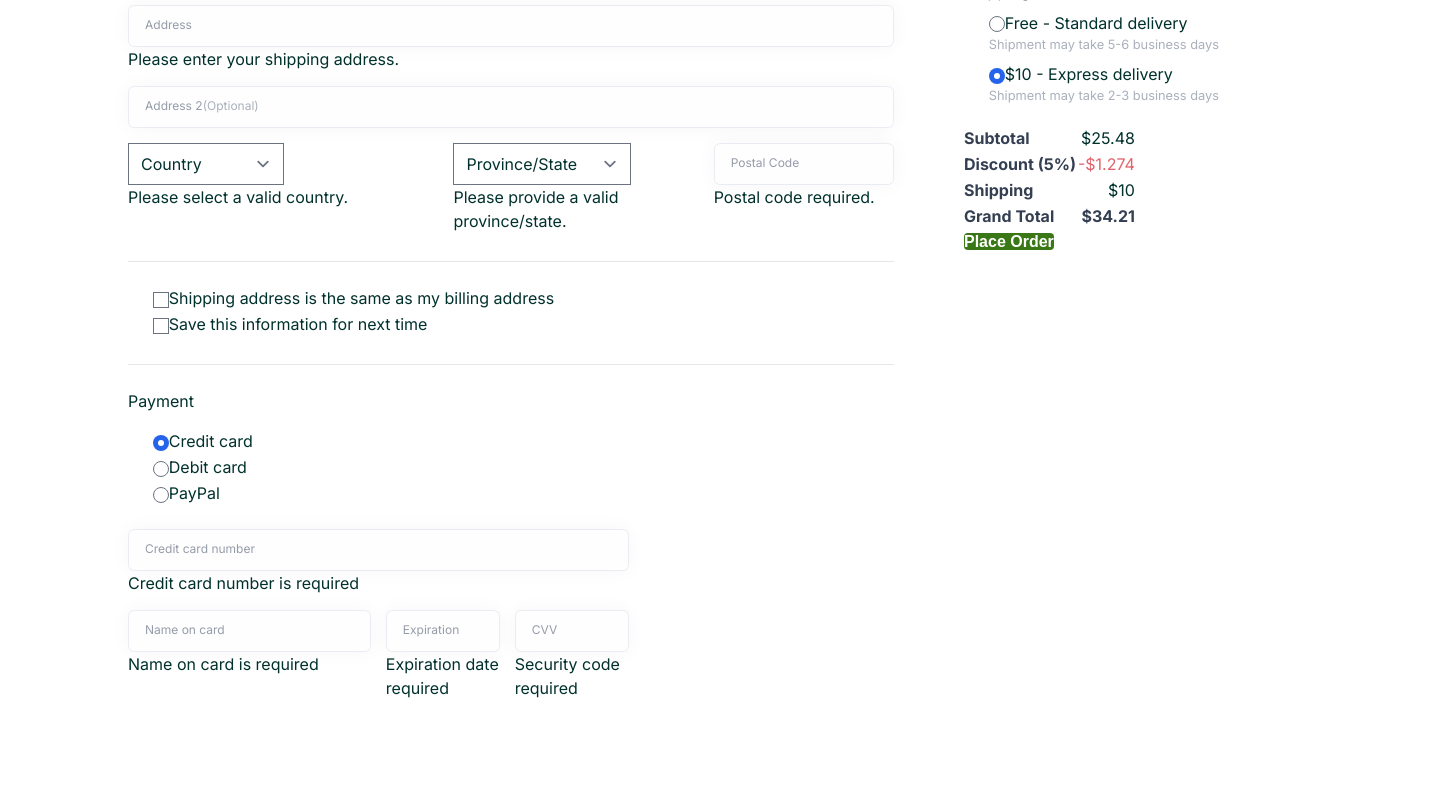
Scenario: Checkout Component › User Interaction Tests › allows user to select payment method
(page scrolled)
Expected: the radio button labelled "Credit card" is checked, [153, 435, 169, 451]
Switch to debit card
Click the radio button labelled "Debit card".
click(161, 469)  # box [153, 461, 169, 477]
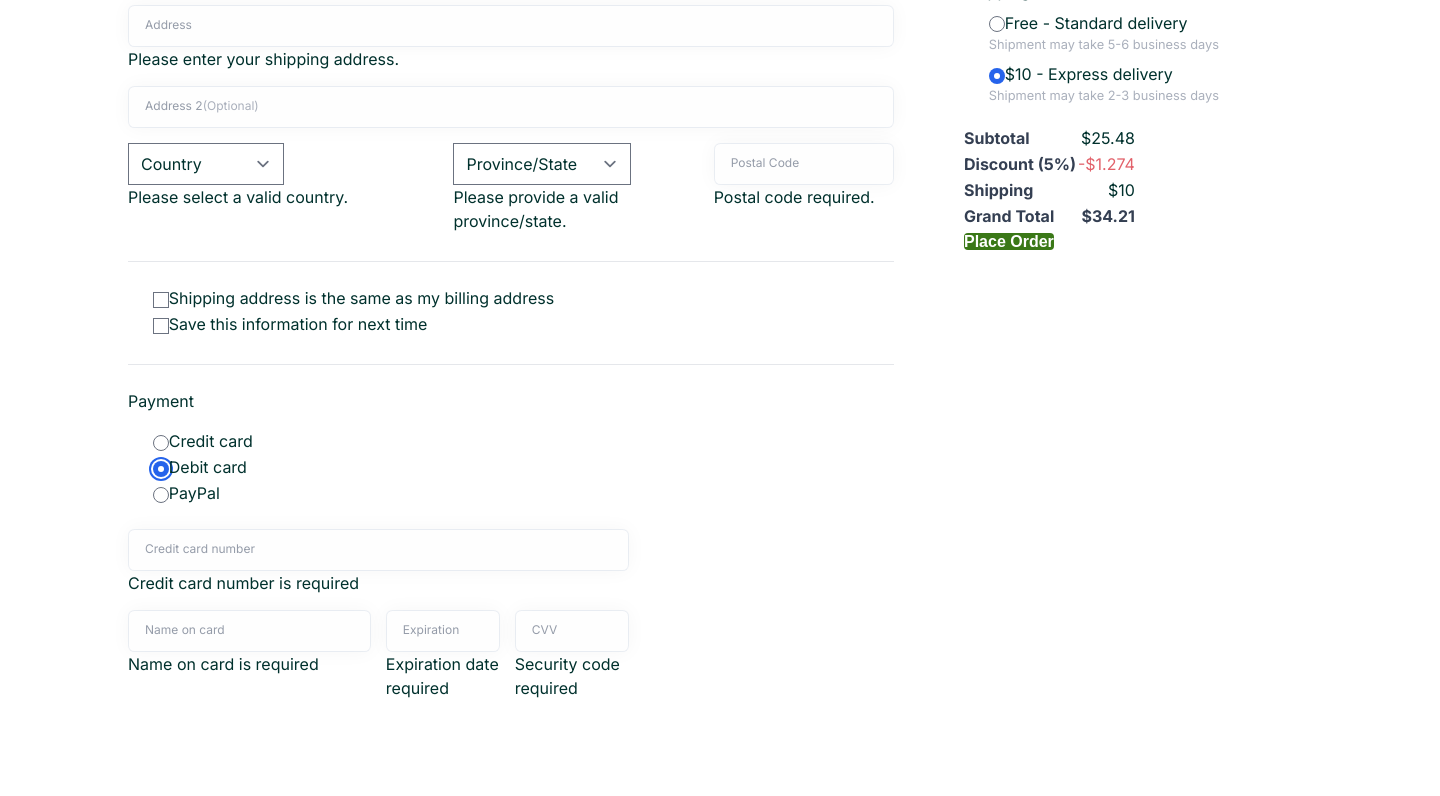
Expected: the radio button labelled "Debit card" is checked, [153, 461, 169, 477]
Expected: the radio button labelled "Credit card" is not checked, [153, 435, 169, 451]
